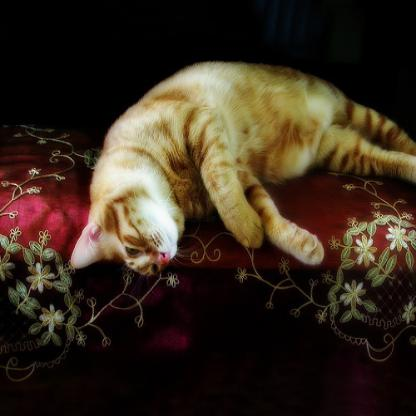cat: (65, 56, 415, 281)
